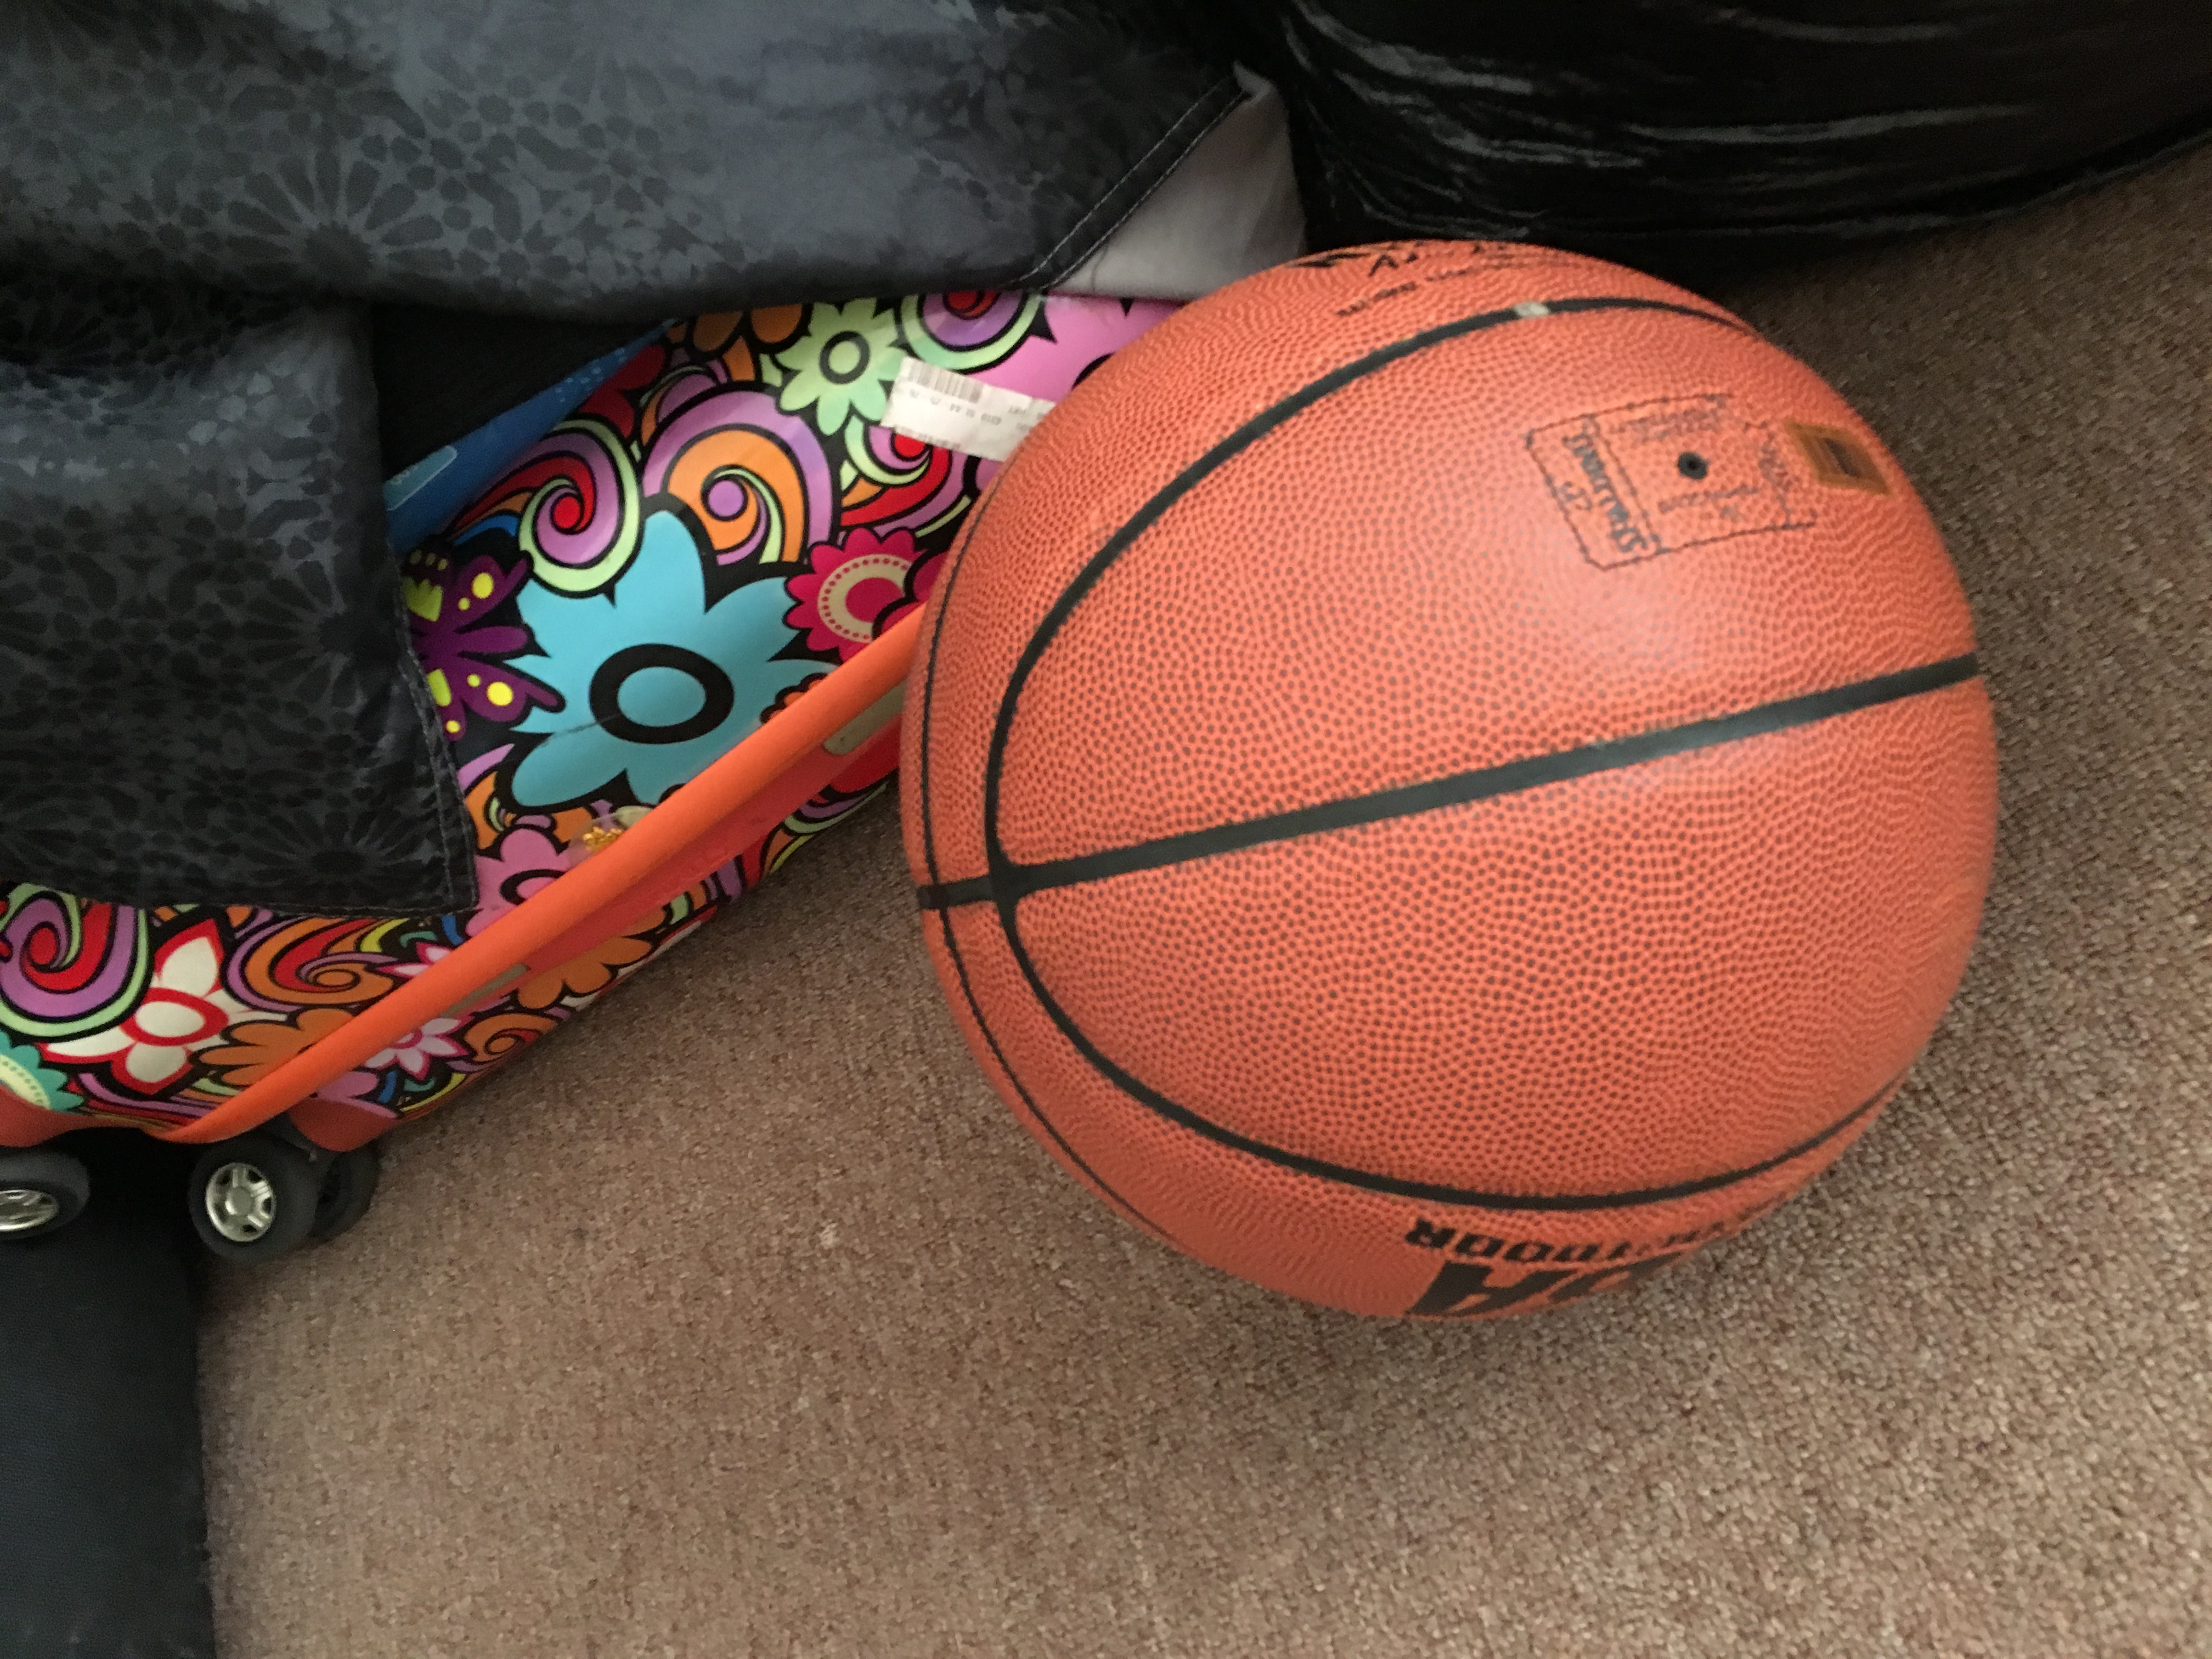Basketball: (894, 221, 2020, 1358)
